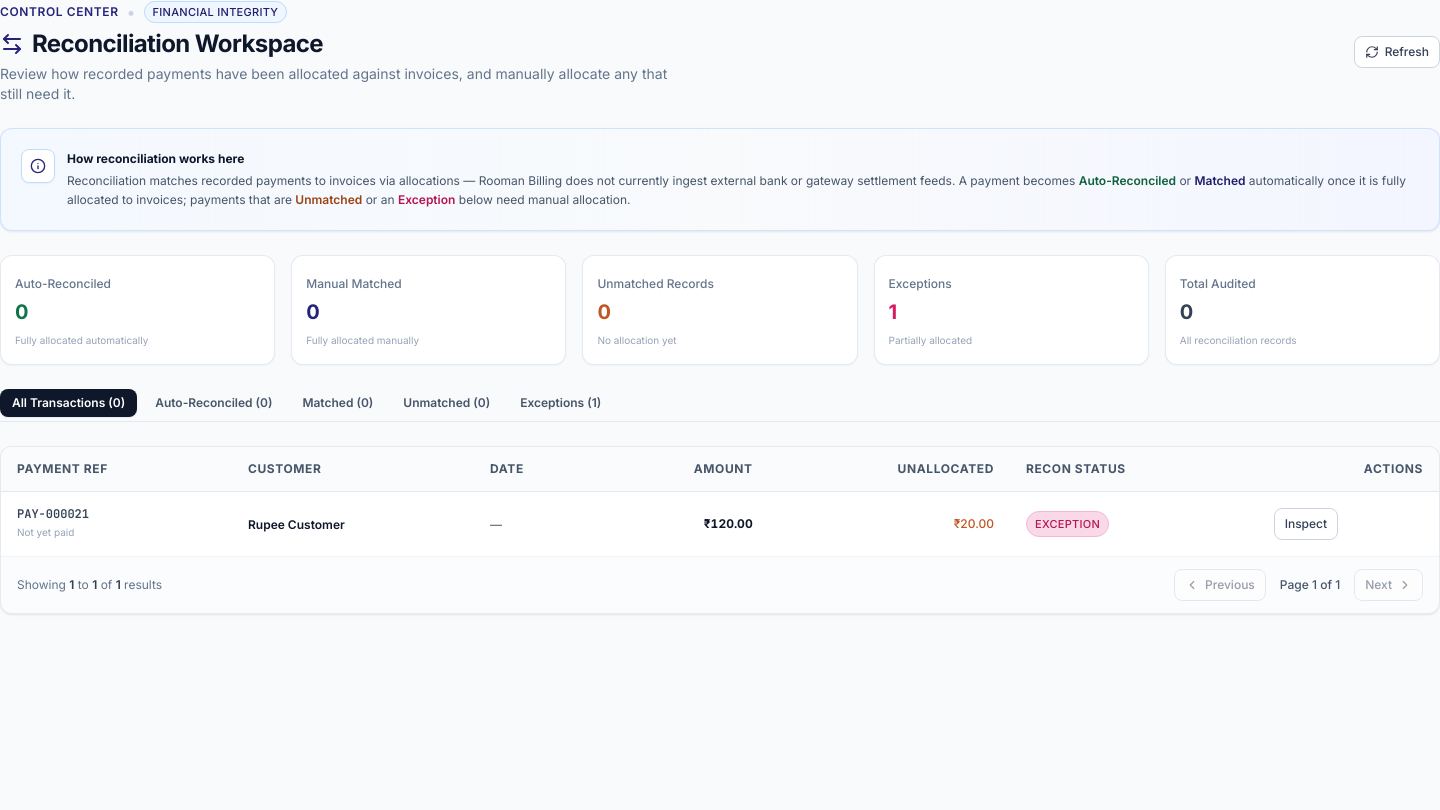
Scenario: <ReconciliationPage /> manual allocation (L-5) › blocks an amount above the unallocated amount
Click the button "Inspect": (1306, 524) x1=1274 y1=508 x2=1338 y2=540
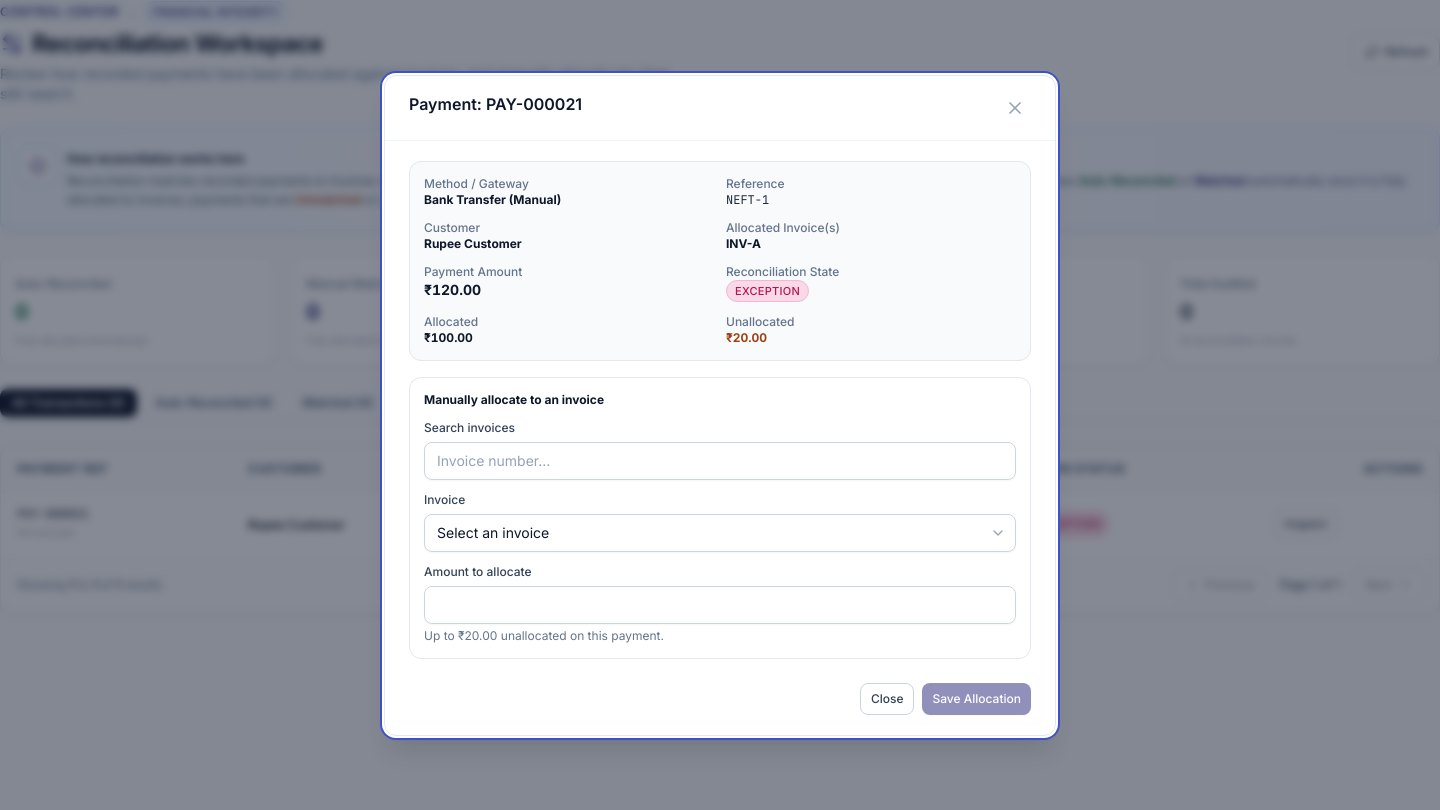
Select "INV-B — ₹50.00 due" in the dropdown labelled "Invoice": (720, 532) x1=424 y1=514 x2=1016 y2=552
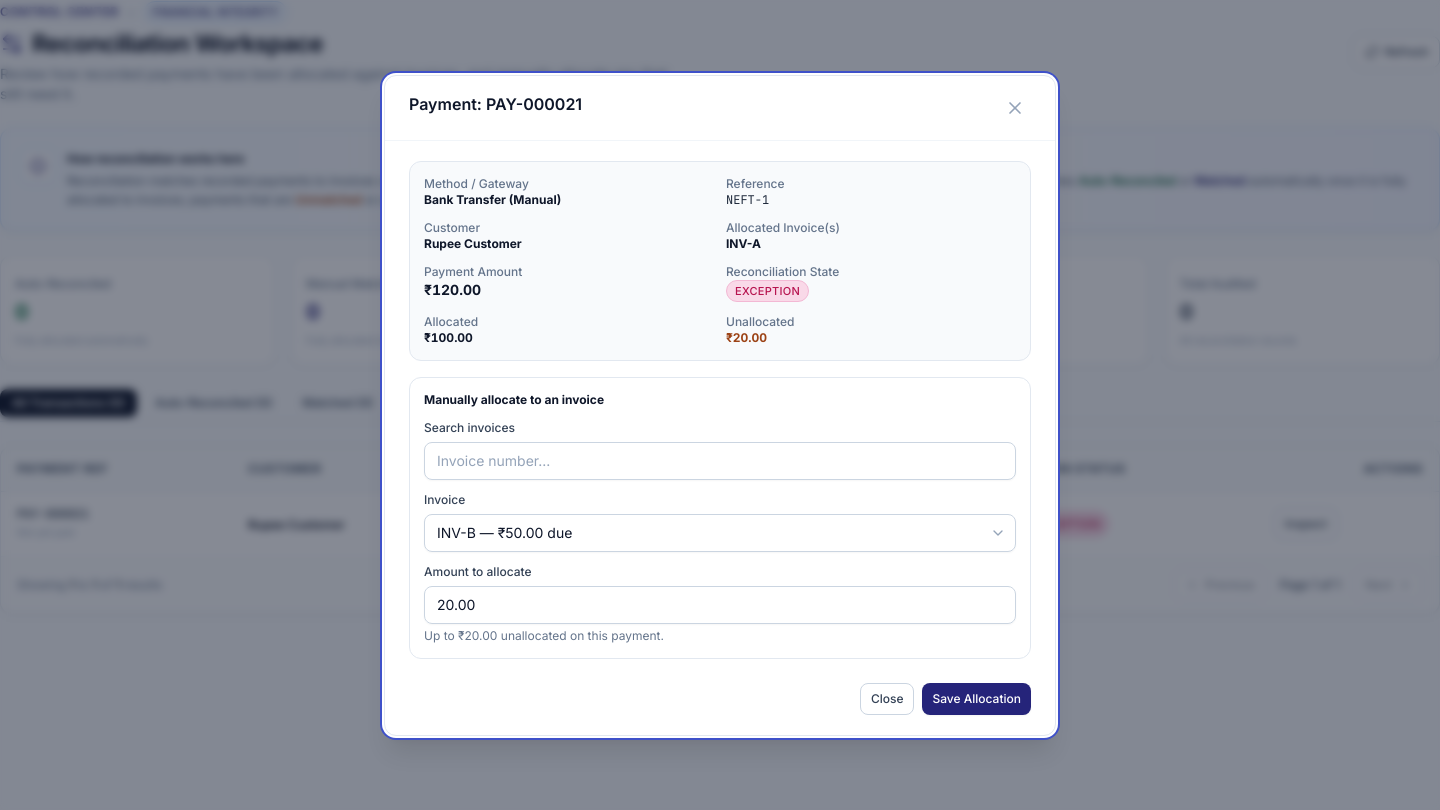
Replace the text in the number field labelled "Amount to allocate" with "20.01": (720, 604) x1=424 y1=586 x2=1016 y2=624
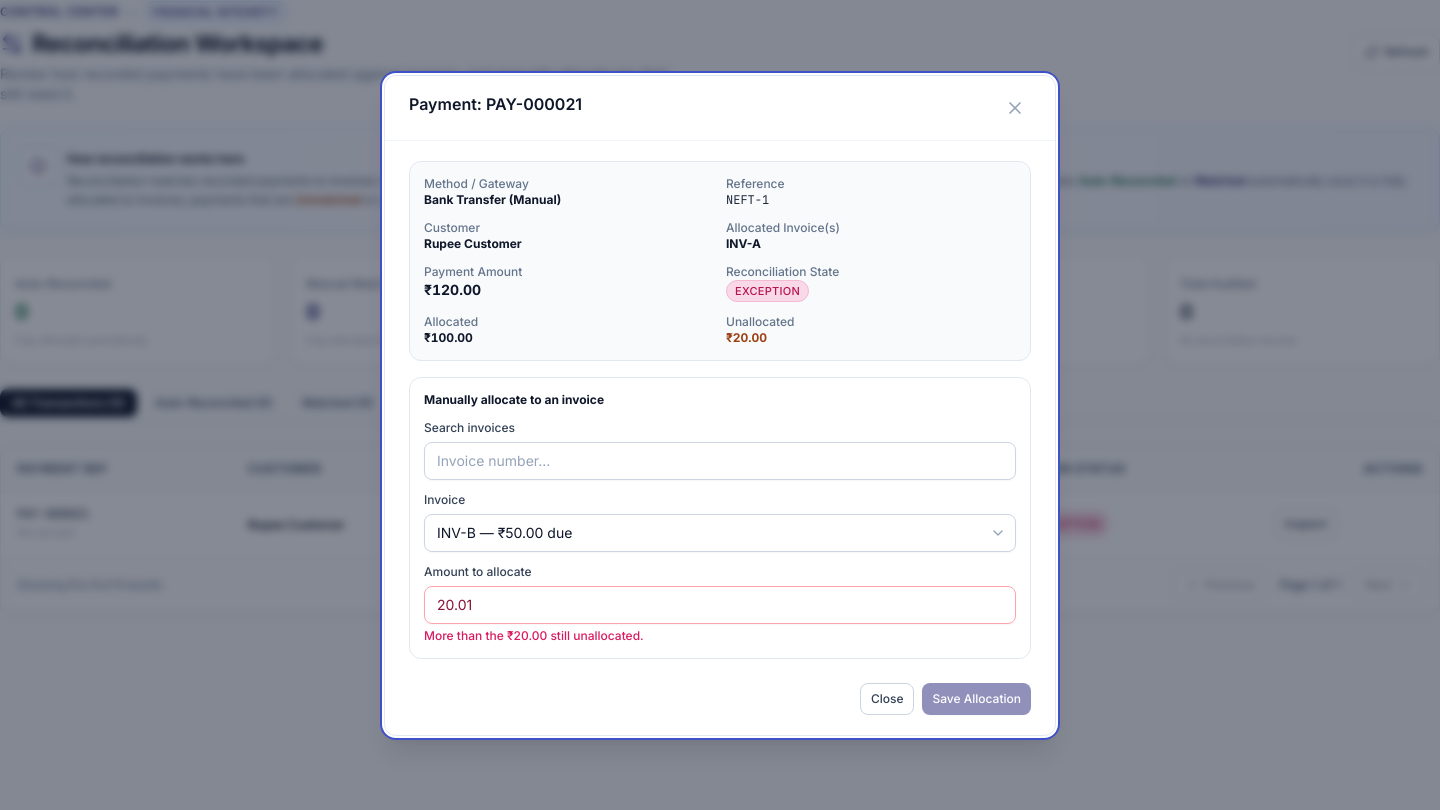
Check: the button "Save Allocation" is disabled, box x1=922 y1=682 x2=1031 y2=714
Check: the text "More than the ₹20.00 still unallocated." is shown, box x1=424 y1=628 x2=644 y2=642
